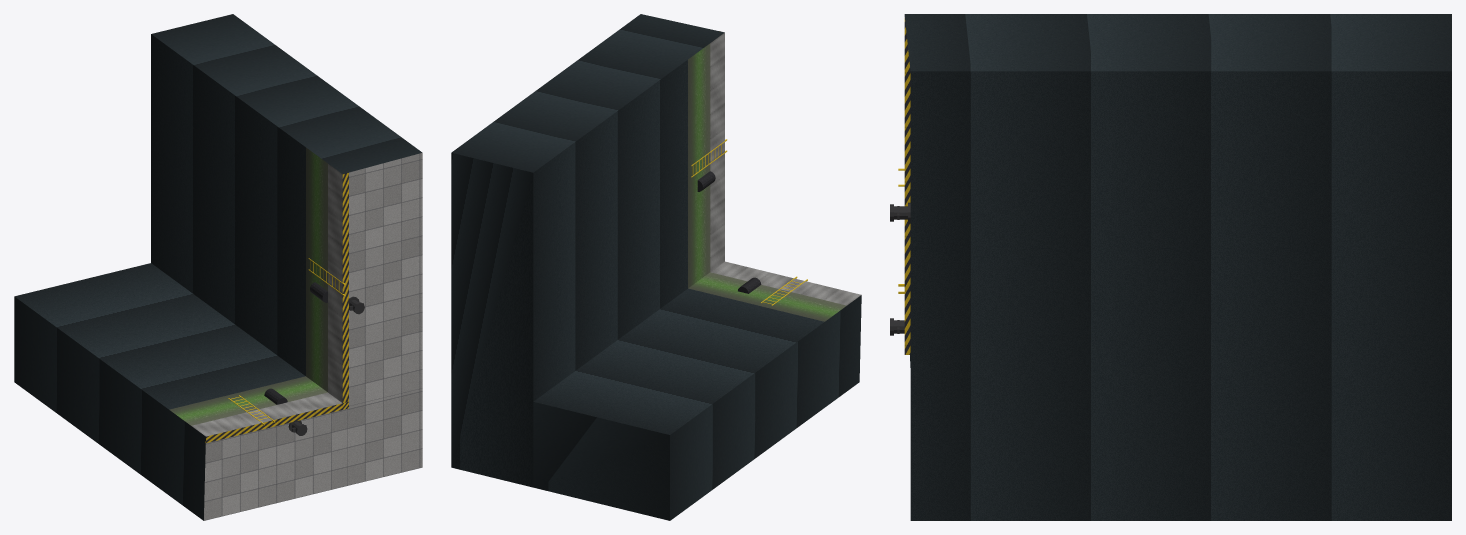
Rendered from harbor_wall_corner.obj.
3 views of the same model, side by side, from view 1: azimuth 30°, elevation 25°; view 2: azimuth 150°, elevation 25°; view 3: azimuth 270°, elevation 25° (orthographic). The views are drawn at different scales.
Bounding box in the file's own units: 12 × 16.5 × 18.68.
8 materials, 8 textured.
